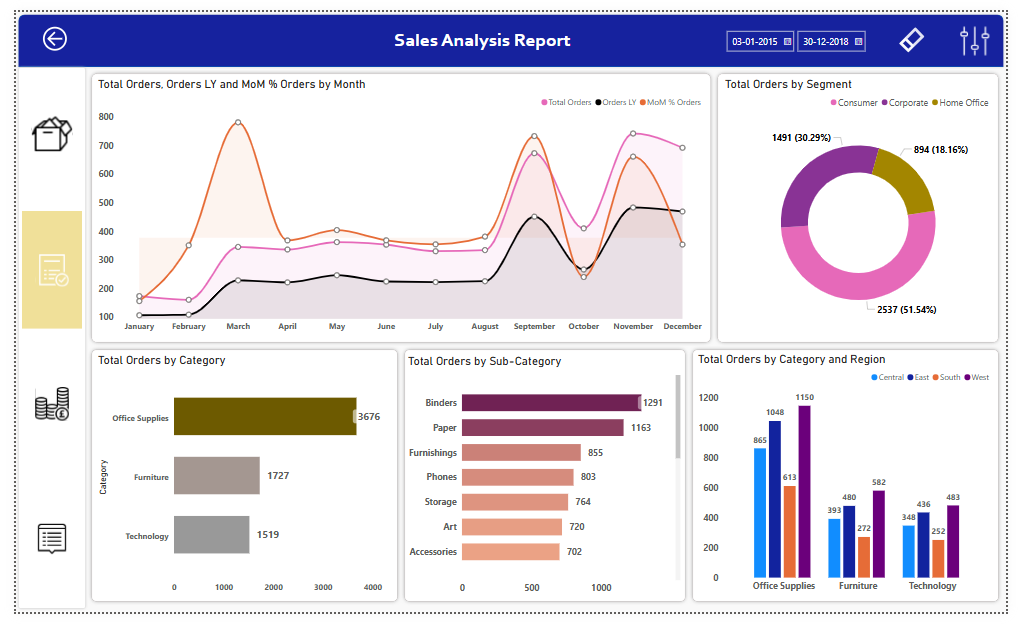

What the dashboard file says about the page in this screenshot:
{"tool":"powerbi","page":{"name":"Orders","canvas":[1650,1000],"ordinal":1},"visuals":[{"type":"shape","box":[0,0,1650,95.7],"z":0},{"type":"textbox","box":[595.7,21.4,364.3,50],"z":1000},{"type":"shape","box":[120,96,1044,460],"z":2000},{"type":"shape","box":[1164,96,480,460],"z":3000},{"type":"slicer","fields":{"Values":["DimDate.Date"]},"box":[1172,22,256,50],"z":4000},{"type":"actionButton","box":[1460,22,66,50],"z":5000},{"type":"shape","box":[0,88.6,120,910],"z":6000},{"type":"actionButton","box":[14.3,21.4,100,45.7],"z":7000},{"type":"actionButton","title":"Filter Button","box":[1560,18,76,60],"z":8000},{"type":"actionButton","box":[10,108.4,100,196],"z":11000},{"type":"actionButton","box":[10,331.7,100,196],"z":12000},{"type":"actionButton","box":[10,555.1,100,196],"z":13000},{"type":"actionButton","box":[10,778.4,100,196],"z":14000},{"type":"shape","box":[120,556,522,432],"z":15000},{"type":"shape","box":[642,556,480,432],"z":16000},{"type":"shape","box":[1122,556,522,432],"z":17000},{"type":"donutChart","fields":{"Y":["All Measure.Total Orders"],"Category":["Sales_Data.Segment"]},"box":[1177.1,108.6,454.3,434.3],"z":18000},{"type":"lineChart","fields":{"Y":["All Measure.Total Orders","All Measure.Orders LY"],"Category":["DimDate.Date.Variation.Date Hierarchy.Month"],"Y2":["All Measure.MoM % Orders"]},"box":[131.4,108.6,1020,434.3],"z":19000},{"type":"clusteredBarChart","fields":{"Category":["Sales_Data.Category"],"Y":["All Measure.Total Orders"]},"box":[131.4,568.6,500,410],"z":20000},{"type":"clusteredBarChart","fields":{"Y":["All Measure.Total Orders"],"Category":["Sales_Data.Sub-Category"]},"box":[648.6,564.3,464.3,415],"z":21000},{"type":"lineClusteredColumnComboChart","fields":{"Category":["Sales_Data.Category"],"Y":["All Measure.Total Orders"],"Series":["Sales_Data.Region"]},"box":[1131.4,567.1,500,410],"z":22000}]}

Visuals, with their boxes in screenshot pixels (x1, y1, x2, y2), scaled from the page's 1650x1000 canvas onto the 1018x624 screenshot:
shape: select_region(0, 0, 1017, 60)
textbox: select_region(368, 13, 592, 45)
shape: select_region(74, 60, 718, 347)
shape: select_region(718, 60, 1014, 347)
slicer - DimDate.Date: select_region(723, 14, 881, 45)
actionButton: select_region(901, 14, 941, 45)
shape: select_region(0, 55, 74, 623)
actionButton: select_region(9, 13, 71, 42)
"Filter Button" actionButton: select_region(962, 11, 1009, 49)
actionButton: select_region(6, 68, 68, 190)
actionButton: select_region(6, 207, 68, 329)
actionButton: select_region(6, 346, 68, 469)
actionButton: select_region(6, 486, 68, 608)
shape: select_region(74, 347, 396, 617)
shape: select_region(396, 347, 692, 617)
shape: select_region(692, 347, 1014, 617)
donutChart - All Measure.Total Orders x Sales_Data.Segment: select_region(726, 68, 1007, 339)
lineChart - All Measure.Total Orders x All Measure.Orders LY: select_region(81, 68, 710, 339)
clusteredBarChart - Sales_Data.Category x All Measure.Total Orders: select_region(81, 355, 390, 611)
clusteredBarChart - All Measure.Total Orders x Sales_Data.Sub-Category: select_region(400, 352, 687, 611)
lineClusteredColumnComboChart - Sales_Data.Category x All Measure.Total Orders: select_region(698, 354, 1007, 610)
